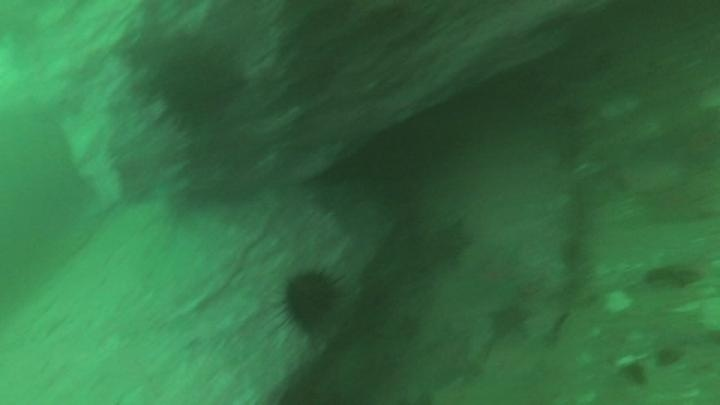echinus: (150, 40, 243, 126), (275, 265, 345, 335)
starfish: (403, 209, 473, 274), (485, 299, 537, 343)
